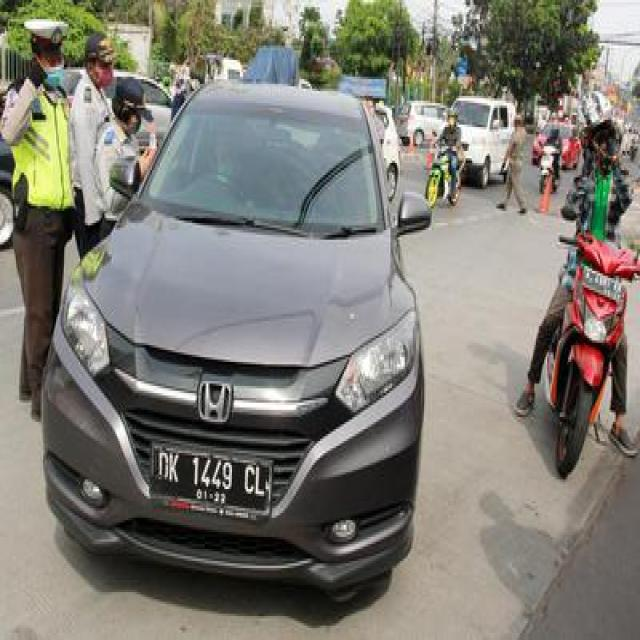plate: (152, 441, 270, 518), (584, 261, 629, 302)
